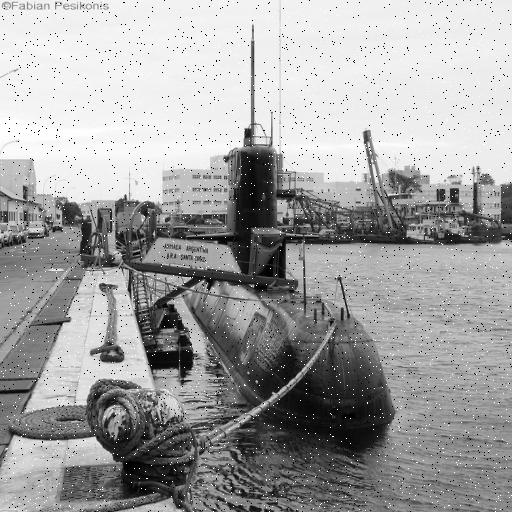submarine: (192, 26, 399, 431)
